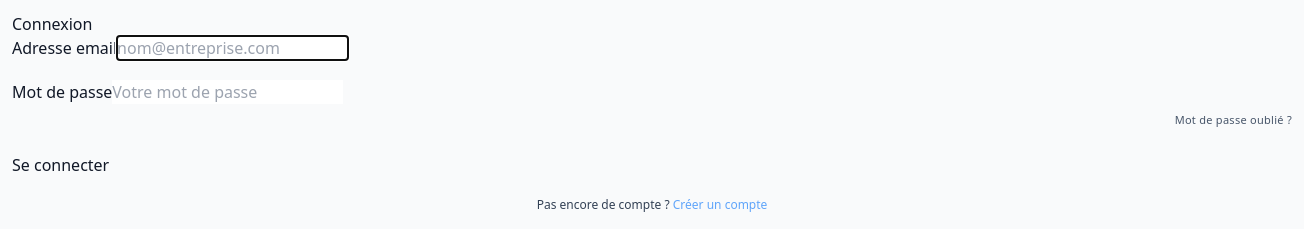
Test case: LoginPage › validation du champ email › devrait afficher un message d erreur si l email est mal formé
The width and height of the screenshot is (1304, 229).
# When — saisie d un email invalide puis soumission
Type "email-invalide-sans-arobase" into the field named "adresse email".
click(233, 48); type("email-invalide-sans-arobase")  # box [117, 36, 348, 60]
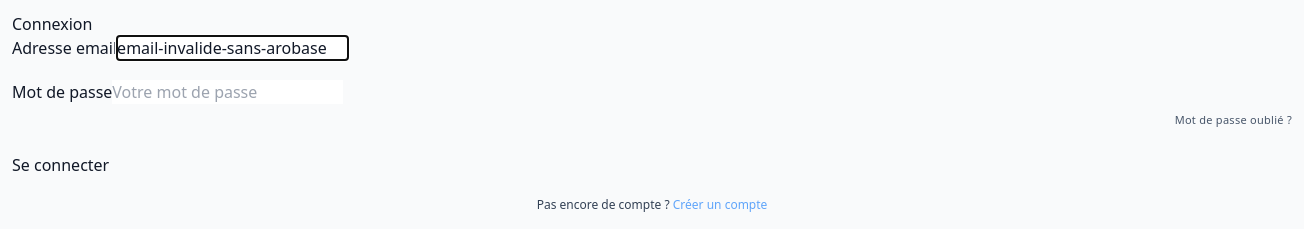
Click the button "Se connecter".
click(61, 164)  # box [12, 152, 109, 176]
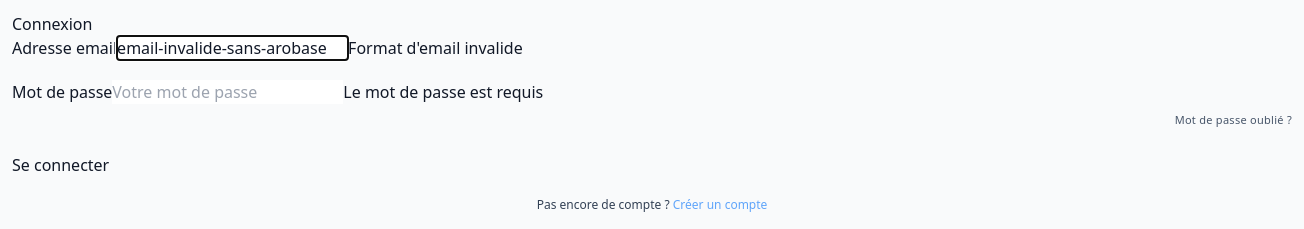
Expected: the message "Format d'email invalide" is shown, [348, 37, 523, 59]
